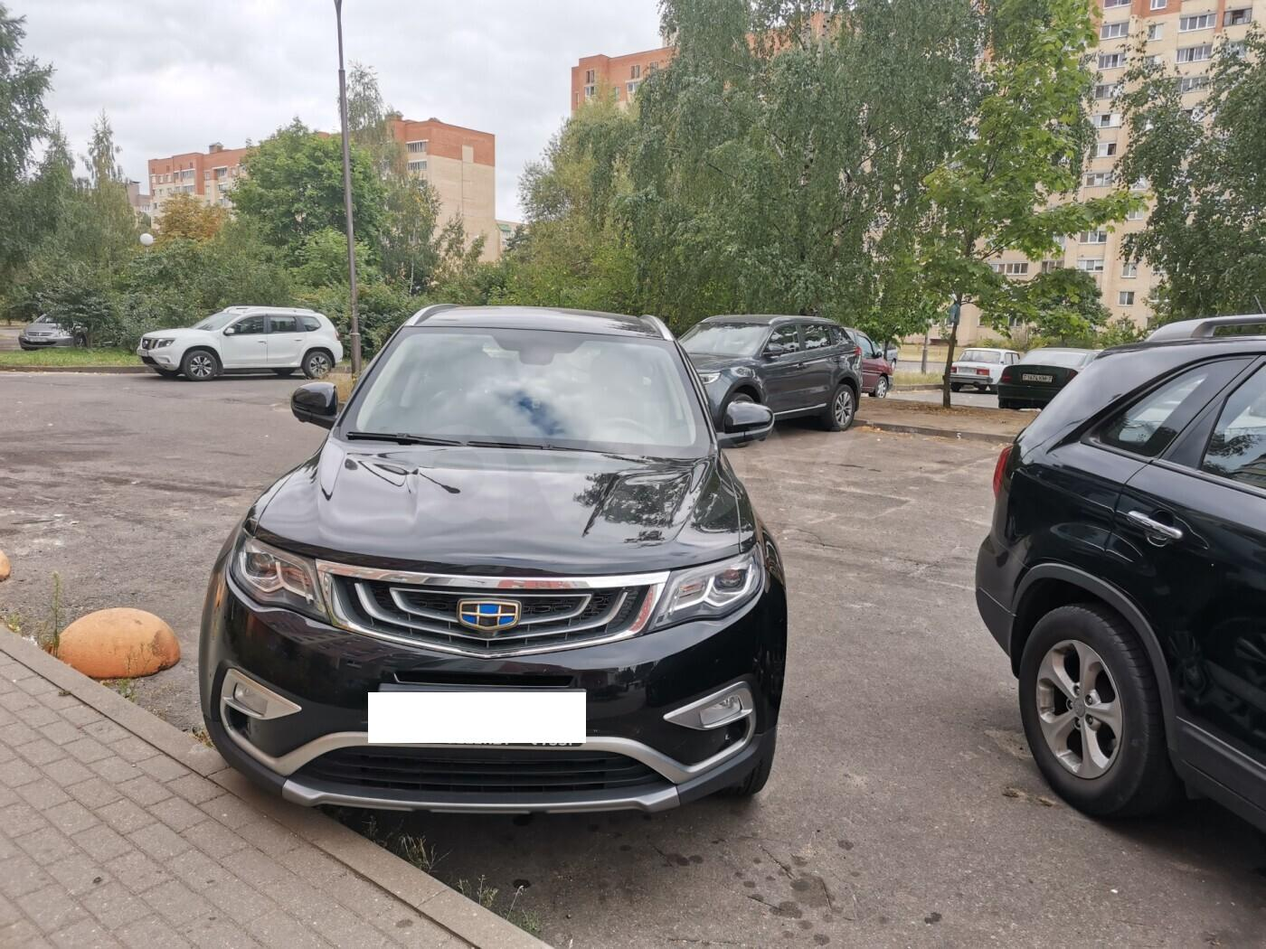Atlas_2016-2023: (198, 297, 794, 835)
